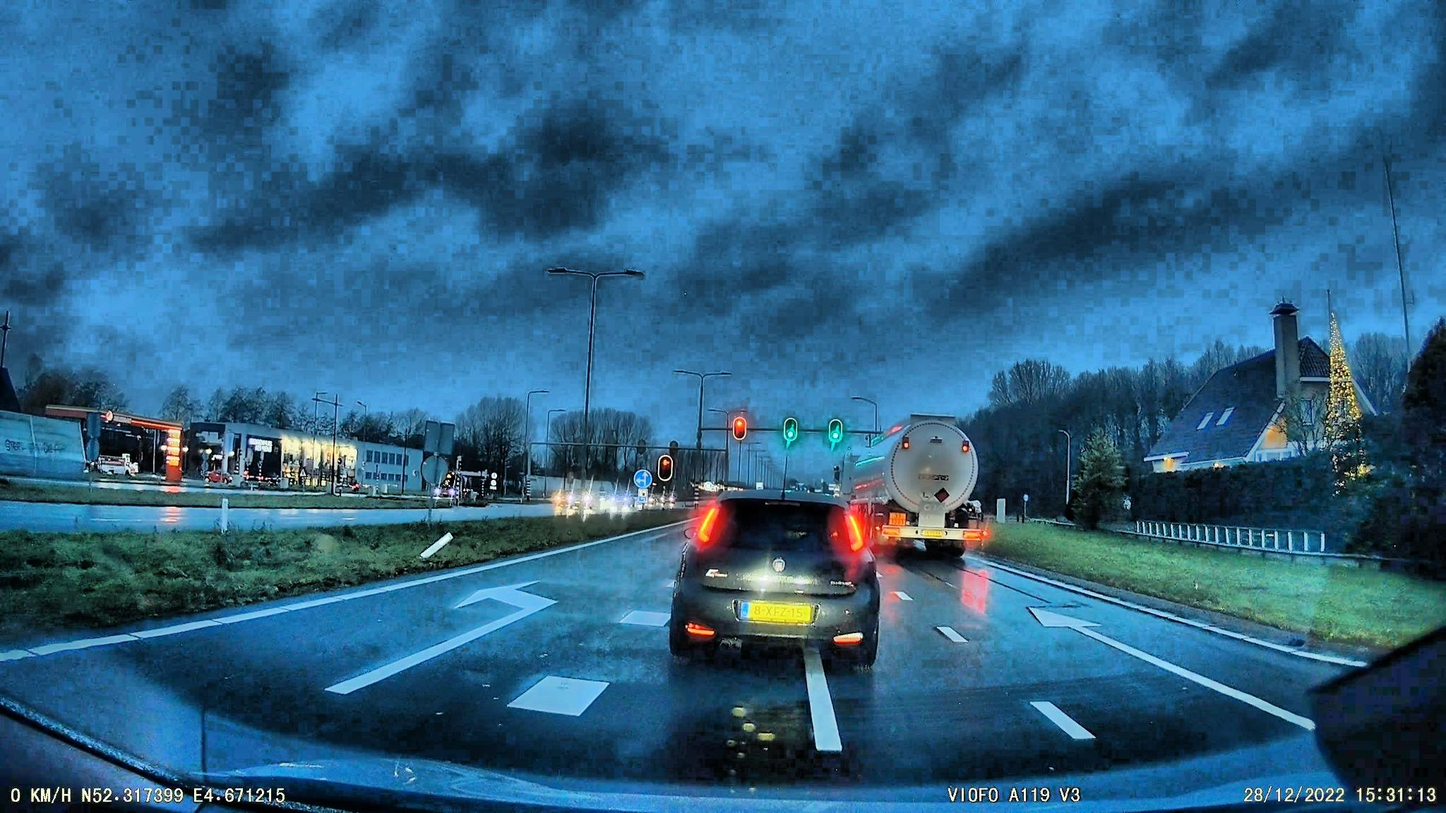Roads: (2, 526, 1344, 813)
